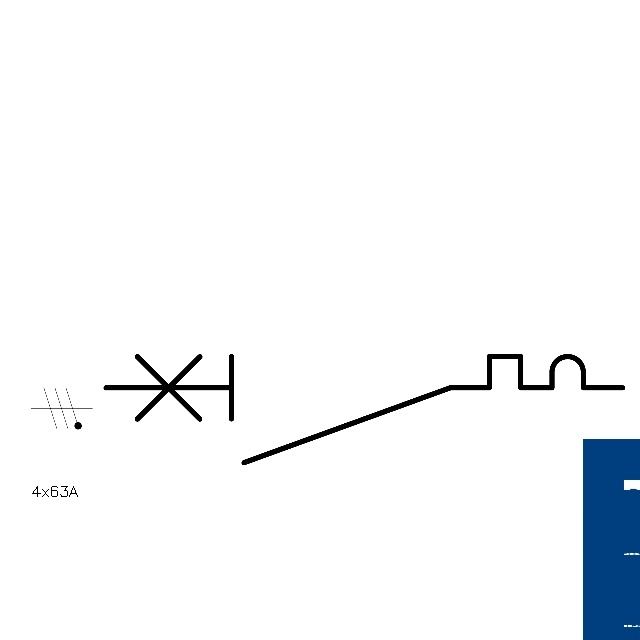interruptor_termomagnetico: (92, 343, 635, 476)
